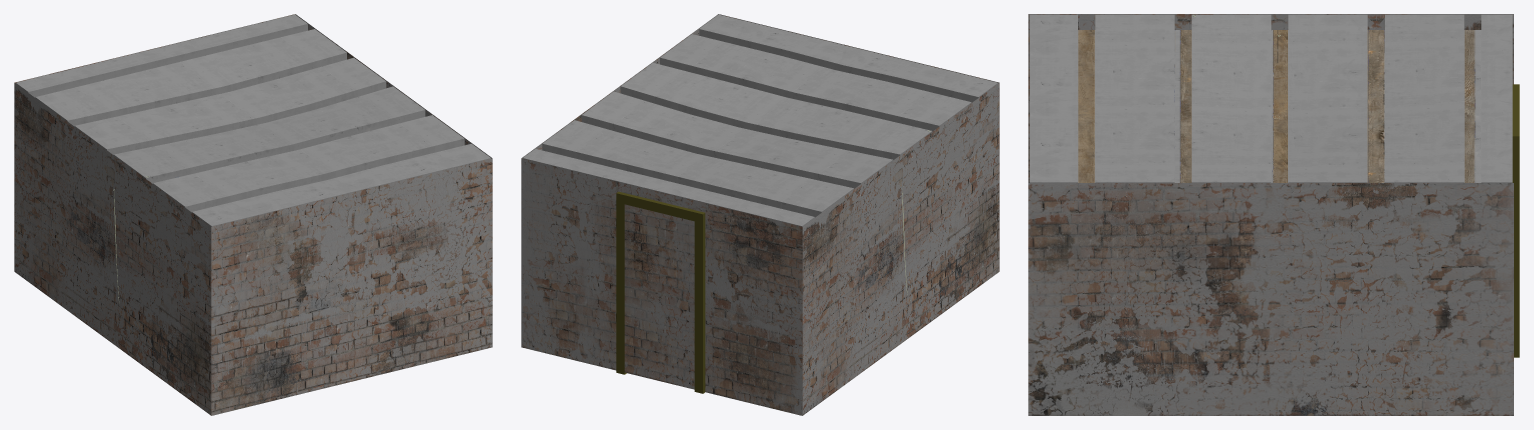
File: theRoom.fbx
The picture shows the model from 3 angles, left to right: view 1: azimuth 30°, elevation 25°; view 2: azimuth 150°, elevation 25°; view 3: azimuth 270°, elevation 25°; orthographic projection. The views are drawn at different scales.
Parts seen in each view (by area): view 1: wallsAndFloor, ceiling; view 2: wallsAndFloor, ceiling, theDoor:door; view 3: wallsAndFloor, ceiling, theDoor:door.
Part boxes in pixels (x1,y1,x2,y2): wallsAndFloor: (14,14,492,415); ceiling: (16,14,490,226); wallsAndFloor: (521,14,999,415); ceiling: (523,14,997,226); theDoor:door: (616,191,705,393); wallsAndFloor: (1028,14,1513,415); ceiling: (1030,14,1512,182); theDoor:door: (1512,84,1519,357).
Bounding box in the file's own units: 491 × 316 × 602.
